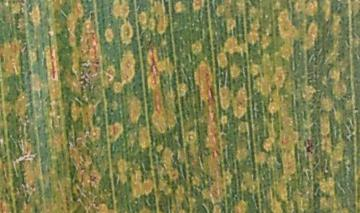tarspot: (303, 138, 313, 154), (93, 59, 101, 66), (336, 19, 343, 26), (351, 201, 357, 209), (353, 106, 359, 113)
